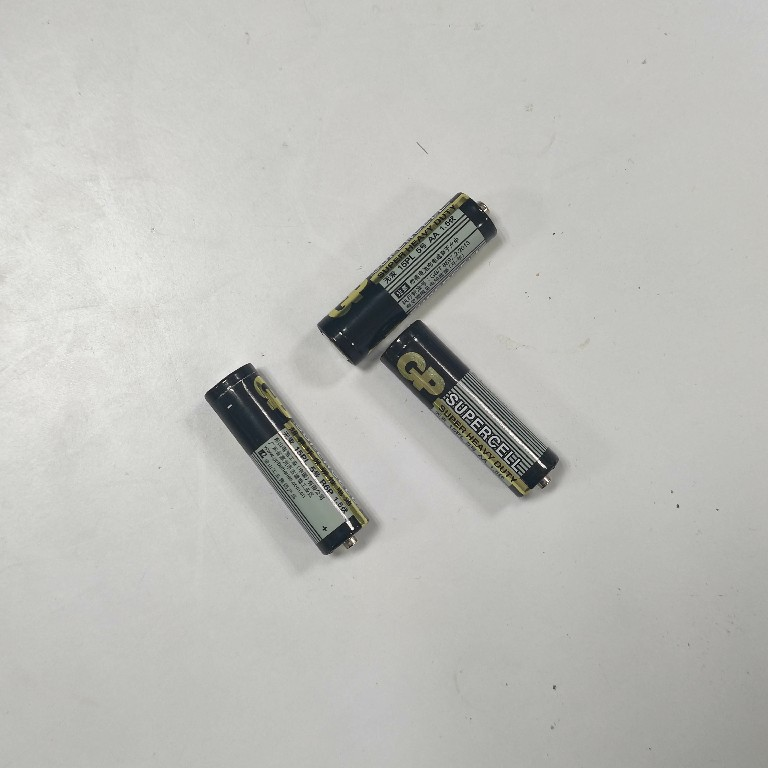charge: (374, 313, 564, 502), (199, 360, 374, 562), (313, 188, 503, 368)
